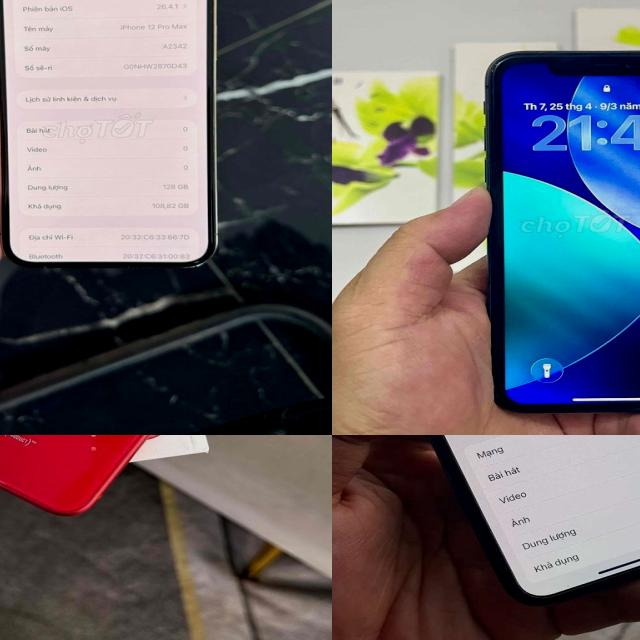gen_11: (484, 46, 640, 414), (0, 435, 294, 517)
gen_12_13: (0, 0, 235, 276)
gen_x_xs: (428, 435, 640, 604)
